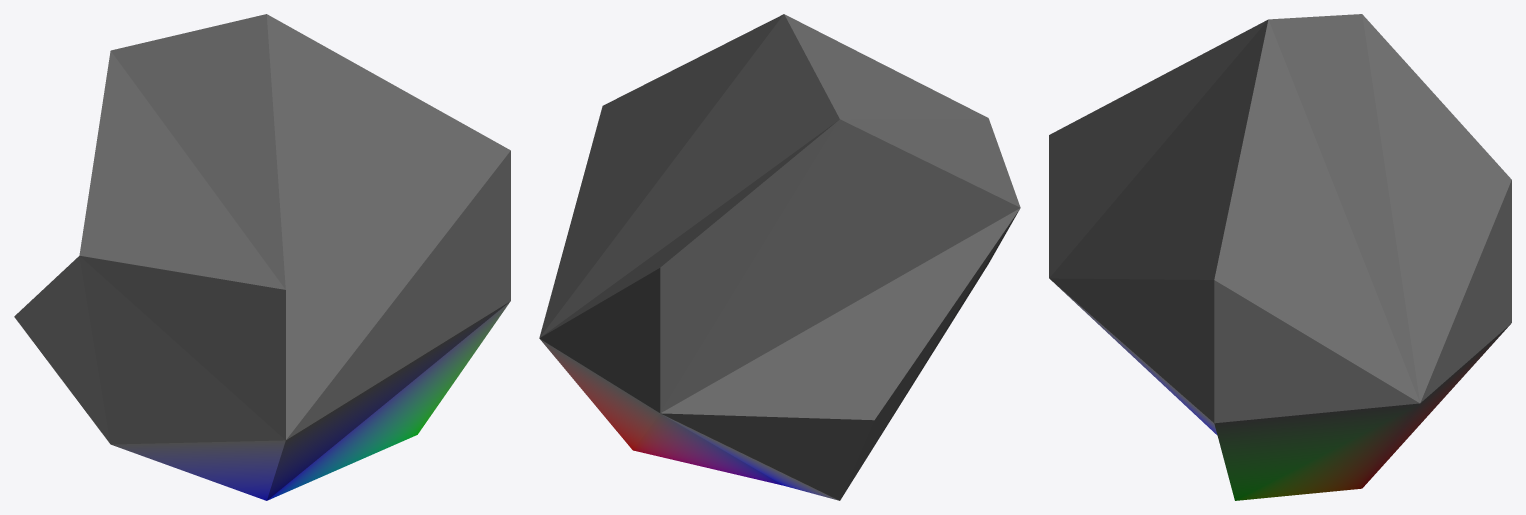
File: decimating_conquest_4_6.obj
3 views of the same model, side by side, from view 1: azimuth 30°, elevation 25°; view 2: azimuth 150°, elevation 25°; view 3: azimuth 270°, elevation 25° (orthographic). The views are drawn at different scales.
Size of the model in its own units: 1.85 by 2 by 1.81.
